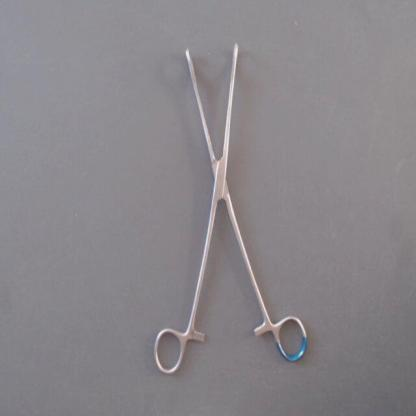Sponge Forceps: (146, 25, 314, 381)
